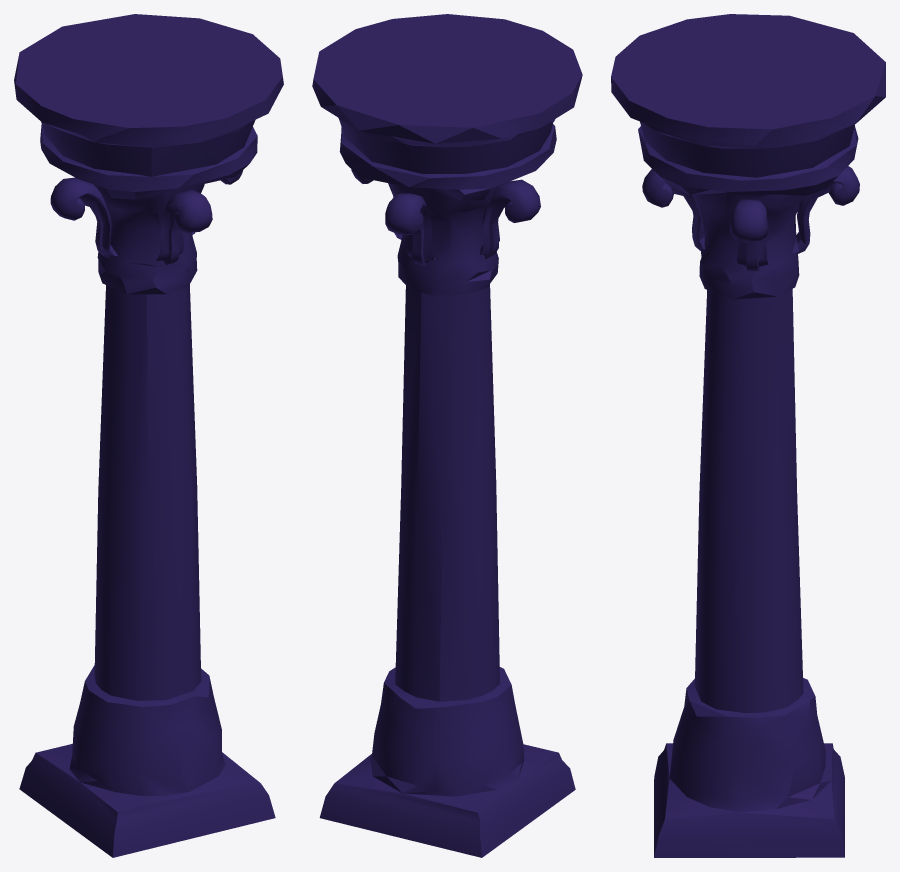
Rendered from SM_alphabatpillar.fbx.
3 renders of one model, left to right at view 1: azimuth 30°, elevation 25°; view 2: azimuth 150°, elevation 25°; view 3: azimuth 270°, elevation 25°, orthographic.
Visible parts, largest first — view 1: SM_alphabatpillar; view 2: SM_alphabatpillar; view 3: SM_alphabatpillar.
Boxes of the visible parts, x1,y1,x2,y2 form: SM_alphabatpillar: (14, 14, 283, 857); SM_alphabatpillar: (312, 14, 582, 857); SM_alphabatpillar: (611, 14, 885, 857).
Bounding box in the file's own units: 179 × 536 × 179.
